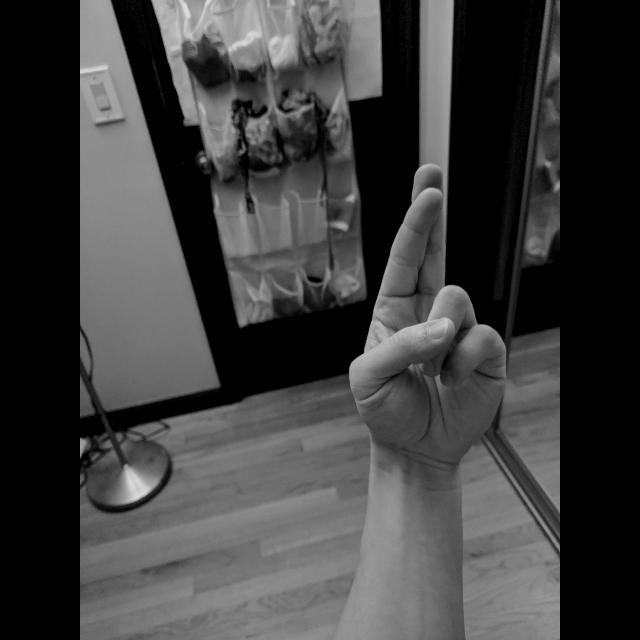R: (344, 156, 512, 468)
